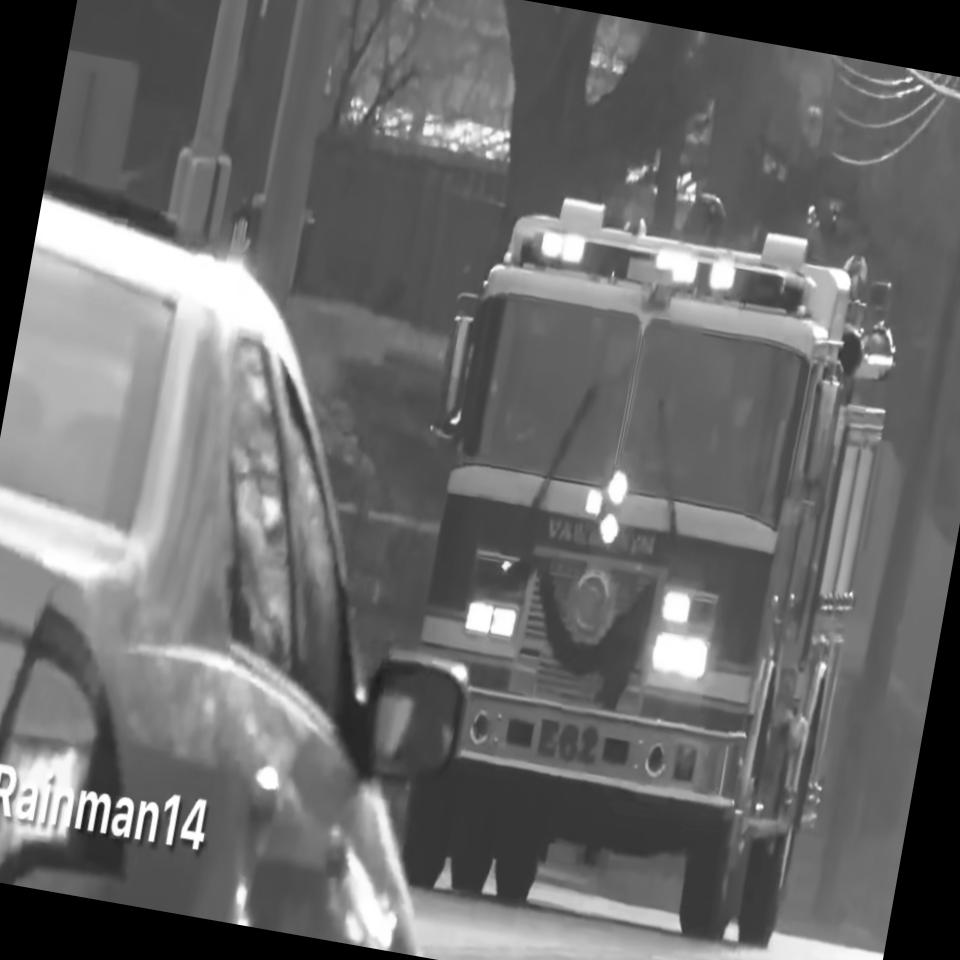viatura: (349, 173, 921, 955)
